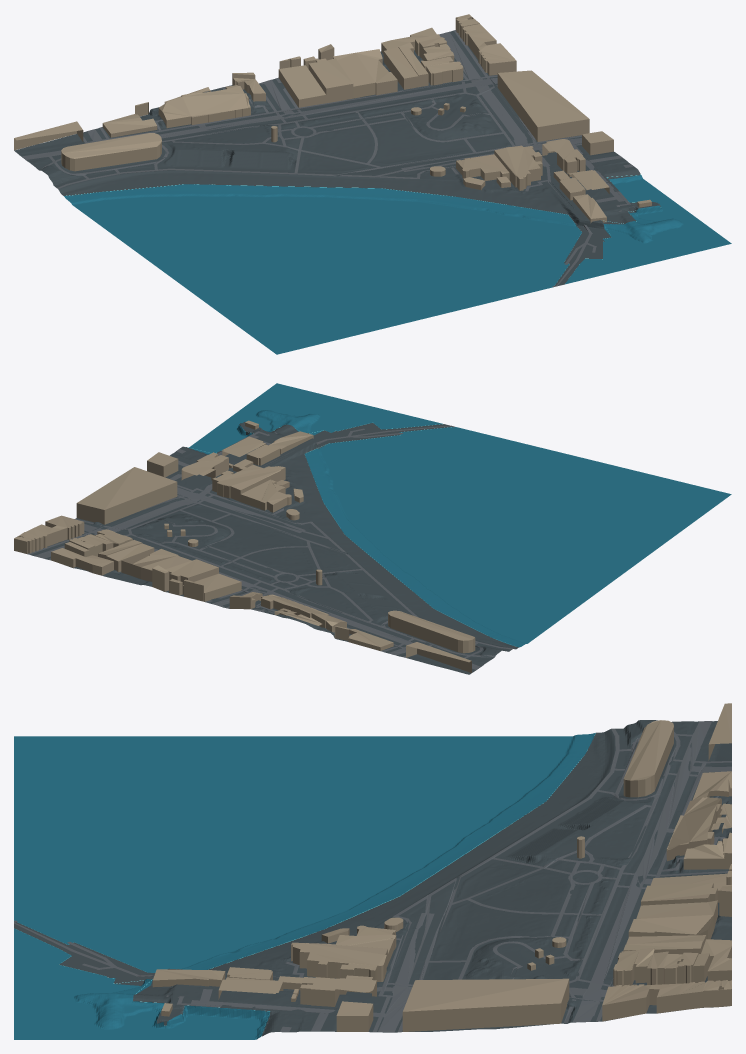
The model's file is epsg26910-1434-10897.lod0.glb.
3 views of the same model, one above another, from view 1: azimuth 30°, elevation 25°; view 2: azimuth 150°, elevation 25°; view 3: azimuth 270°, elevation 25° (orthographic). The views are drawn at different scales.
Parts seen in each view (by area): view 1: epsg26910-1434-10897-lod0; view 2: epsg26910-1434-10897-lod0; view 3: epsg26910-1434-10897-lod0.
Boxes of the visible parts, x1,y1,x2,y2 form: epsg26910-1434-10897-lod0: [14, 14, 731, 354]; epsg26910-1434-10897-lod0: [14, 383, 731, 674]; epsg26910-1434-10897-lod0: [14, 703, 731, 1039].
Size of the model in its own units: 384 by 33.2 by 384.
